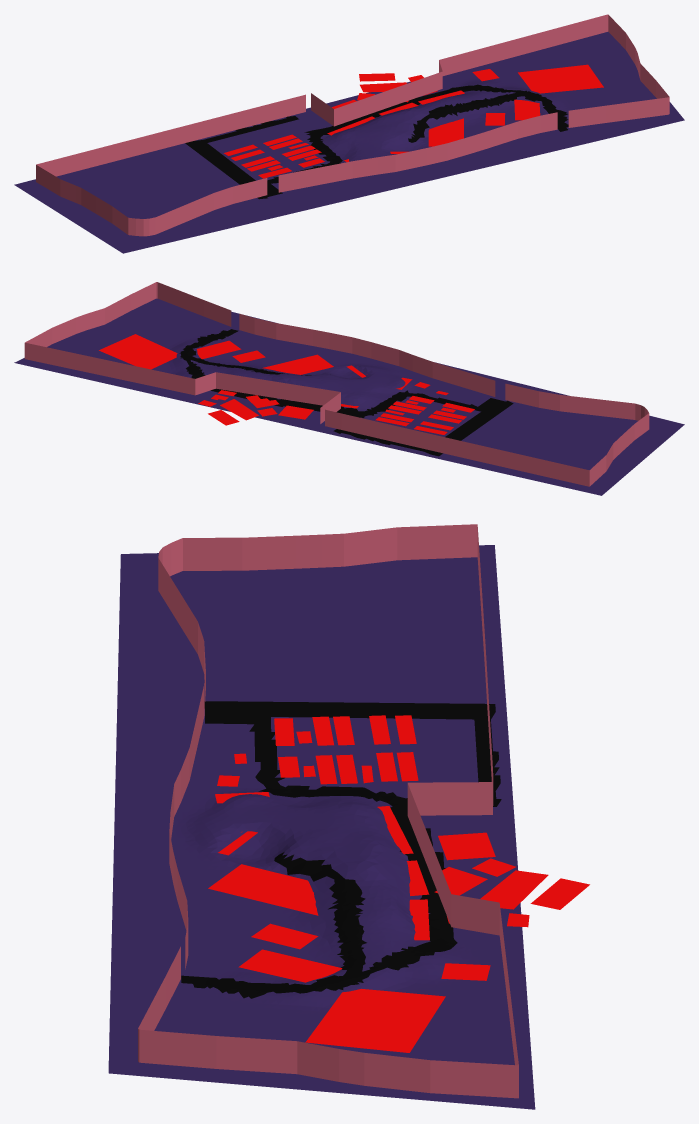
The picture shows the model from 3 angles, top to bottom: view 1: azimuth 30°, elevation 25°; view 2: azimuth 150°, elevation 25°; view 3: azimuth 270°, elevation 25°; orthographic projection. The views are drawn at different scales.
Visible parts, largest first — view 1: FLOOR, map (4).osm, Road No. 3; view 2: FLOOR, map (4).osm, Road No. 3; view 3: FLOOR, map (4).osm, Road No. 3.
Boxes of the visible parts, box(x1,y1,x2,y2) form: FLOOR: box(14, 32, 684, 253); map (4).osm: box(36, 14, 669, 236); Road No. 3: box(155, 97, 669, 234); FLOOR: box(14, 298, 684, 495); map (4).osm: box(24, 282, 649, 486); Road No. 3: box(156, 282, 635, 419); FLOOR: box(108, 545, 535, 1109); map (4).osm: box(139, 524, 589, 1098); Road No. 3: box(138, 558, 205, 1061).
Size of the model in its own units: 73231 by 2478 by 26455.
